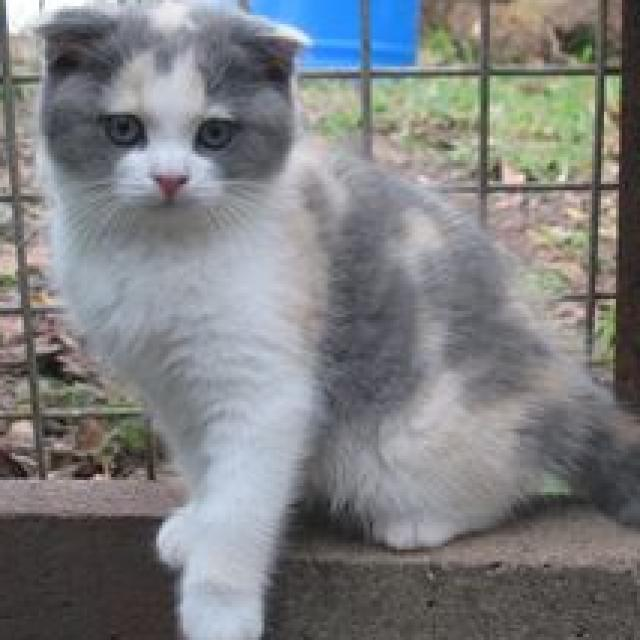Scottish Fold: (27, 0, 640, 640)
